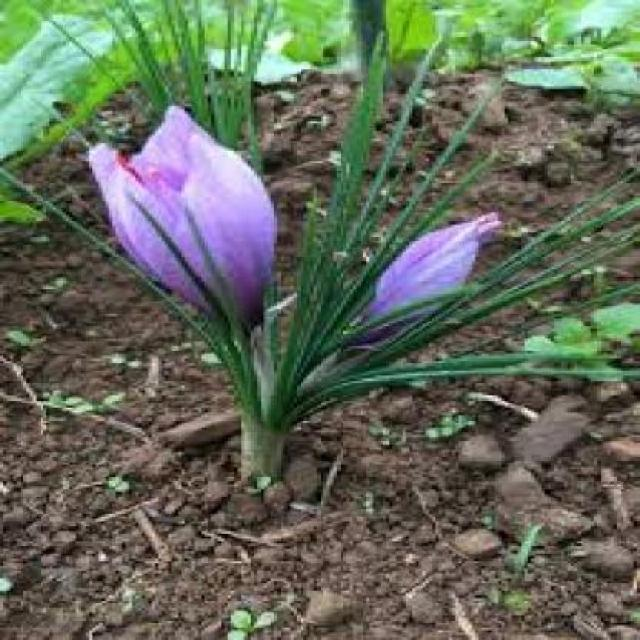Flower: (85, 91, 287, 344), (329, 211, 497, 358)
